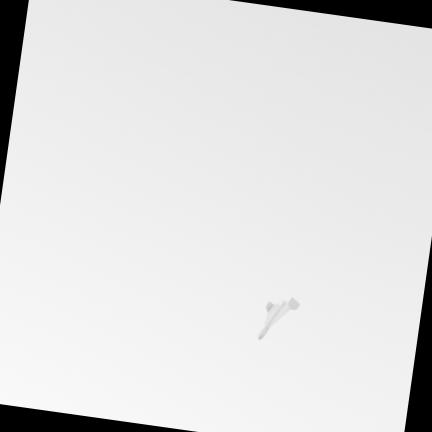Shahed: (258, 297, 298, 338)
